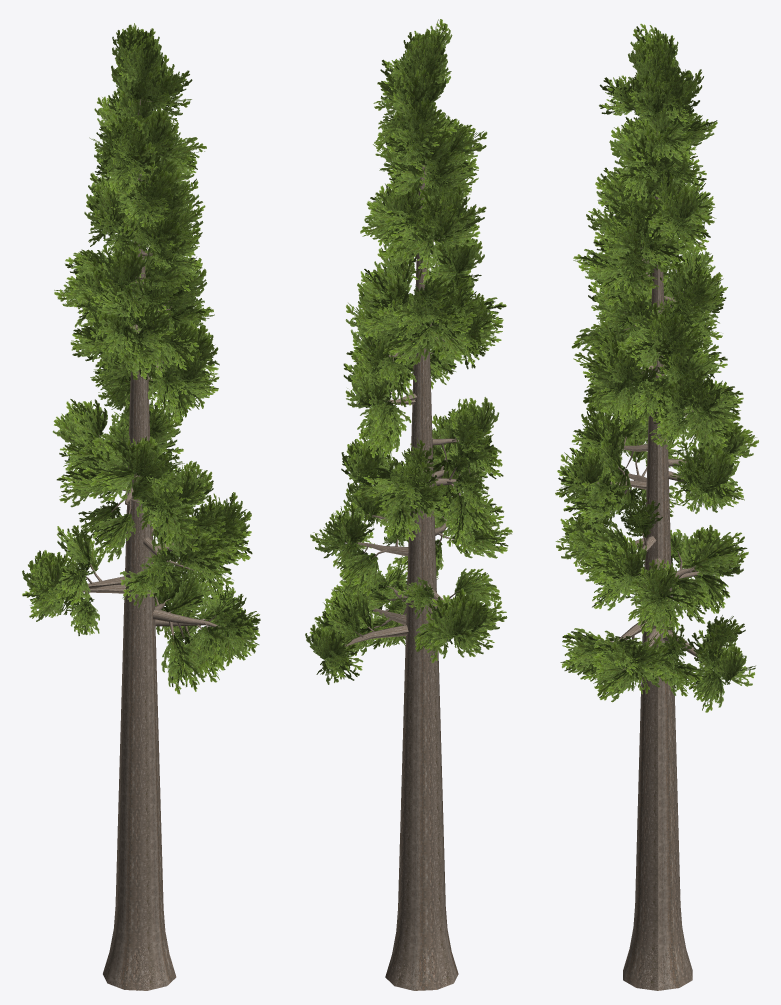
File: Redwood_4.obj
3 views of the same model, side by side, from view 1: azimuth 30°, elevation 25°; view 2: azimuth 150°, elevation 25°; view 3: azimuth 270°, elevation 25° (orthographic).
Visible parts, largest first — view 1: Redwood_4; view 2: Redwood_4; view 3: Redwood_4.
Boxes of the visible parts, x1=… form: Redwood_4: x1=22, y1=23, x2=260, y2=990; Redwood_4: x1=305, y1=19, x2=512, y2=990; Redwood_4: x1=555, y1=23, x2=758, y2=990.
Size of the model in its own units: 25 by 106 by 22.19.
2 materials, 2 textured.
